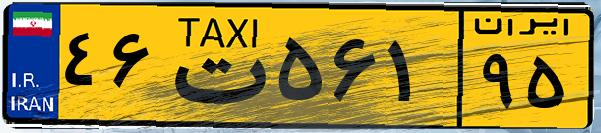1: (385, 28, 445, 110)
4: (57, 26, 110, 100)
5: (270, 28, 330, 110), (525, 38, 570, 115)
6: (330, 28, 385, 110), (110, 28, 158, 98)
9: (475, 38, 525, 113)
ت: (158, 12, 270, 120)
